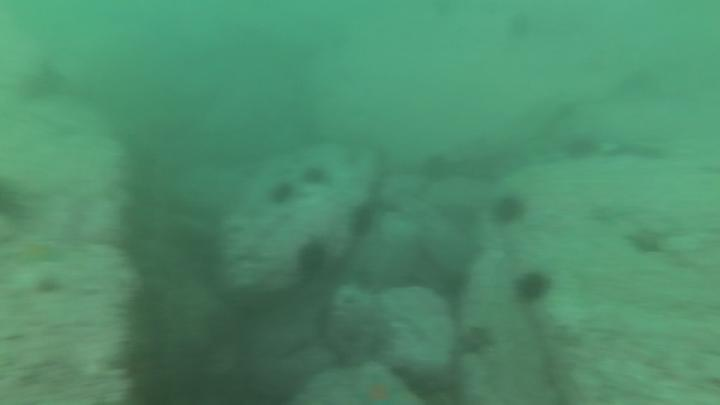echinus: (512, 269, 553, 307), (24, 66, 65, 102), (296, 241, 332, 279), (490, 193, 527, 229), (1, 178, 28, 223), (562, 135, 603, 163), (421, 152, 453, 186), (505, 10, 536, 42), (350, 203, 378, 238), (266, 182, 295, 208), (300, 164, 331, 188)
starfish: (353, 373, 406, 405), (452, 325, 500, 360), (623, 225, 674, 257)
